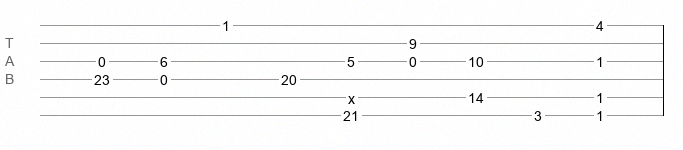0: (98, 54, 106, 64), (160, 72, 168, 82), (409, 54, 417, 64)
1: (222, 18, 230, 28), (596, 108, 604, 118), (596, 54, 604, 64), (596, 90, 604, 100)
10: (468, 54, 484, 64)
14: (468, 90, 484, 100)
20: (281, 72, 297, 82)
21: (343, 108, 359, 118)
23: (94, 72, 110, 82)
3: (534, 108, 542, 118)
4: (596, 18, 604, 28)
5: (347, 54, 355, 64)
6: (160, 54, 168, 64)
9: (409, 36, 417, 46)
x: (348, 91, 355, 99)
